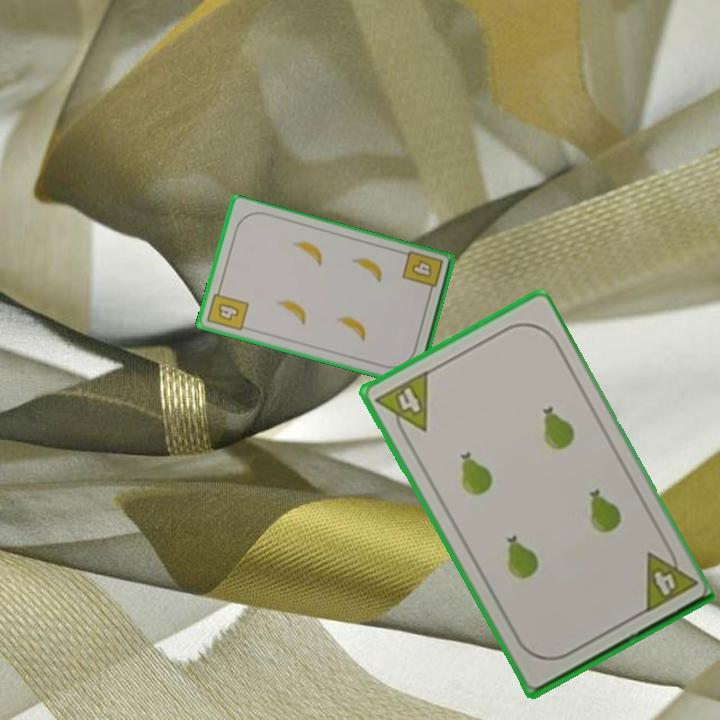4b: (203, 283, 252, 334), (399, 247, 446, 299)
4p: (639, 540, 699, 617), (372, 367, 431, 444)
